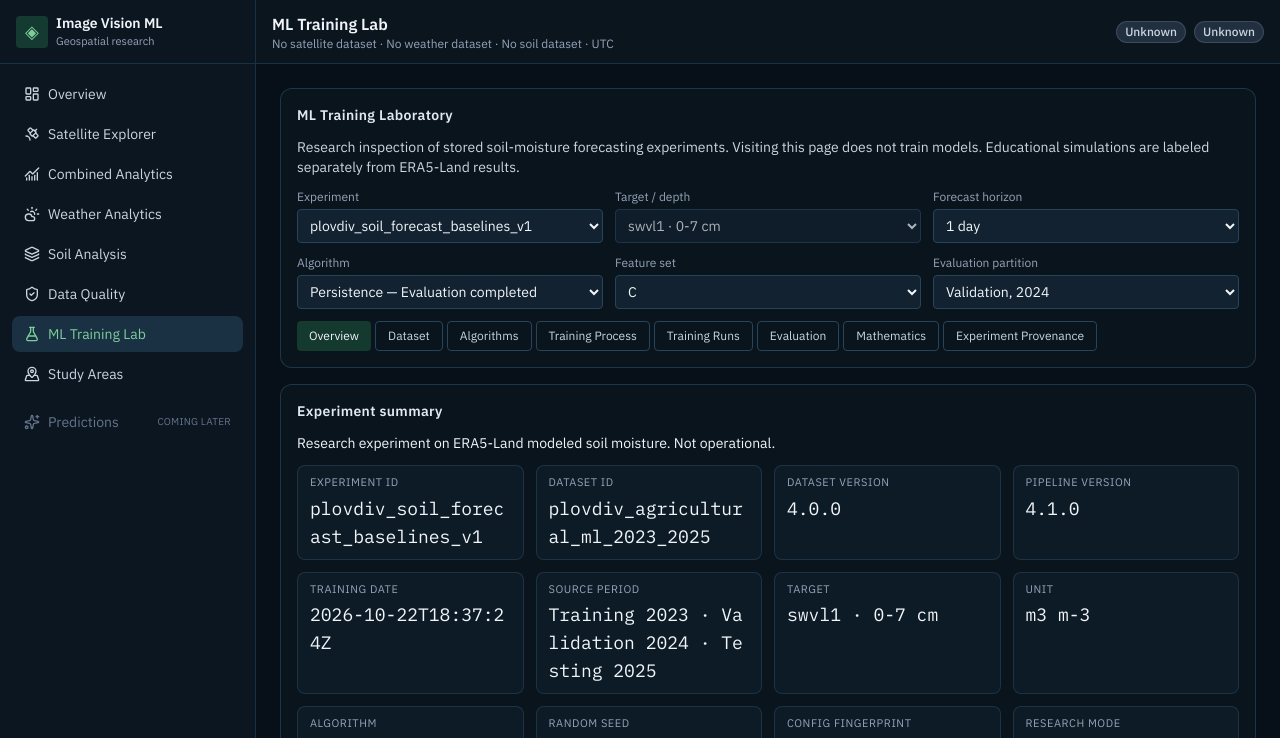
Test: ML Training Laboratory › keeps selectors while switching tabs and labels the held-out test
The width and height of the screenshot is (1280, 738).
Expected: the heading "Experiment summary" is shown, [297,401,443,421]
Select "7 day" in the dropdown labelled "Forecast horizon" at (1086, 226), box [933,209,1239,243]
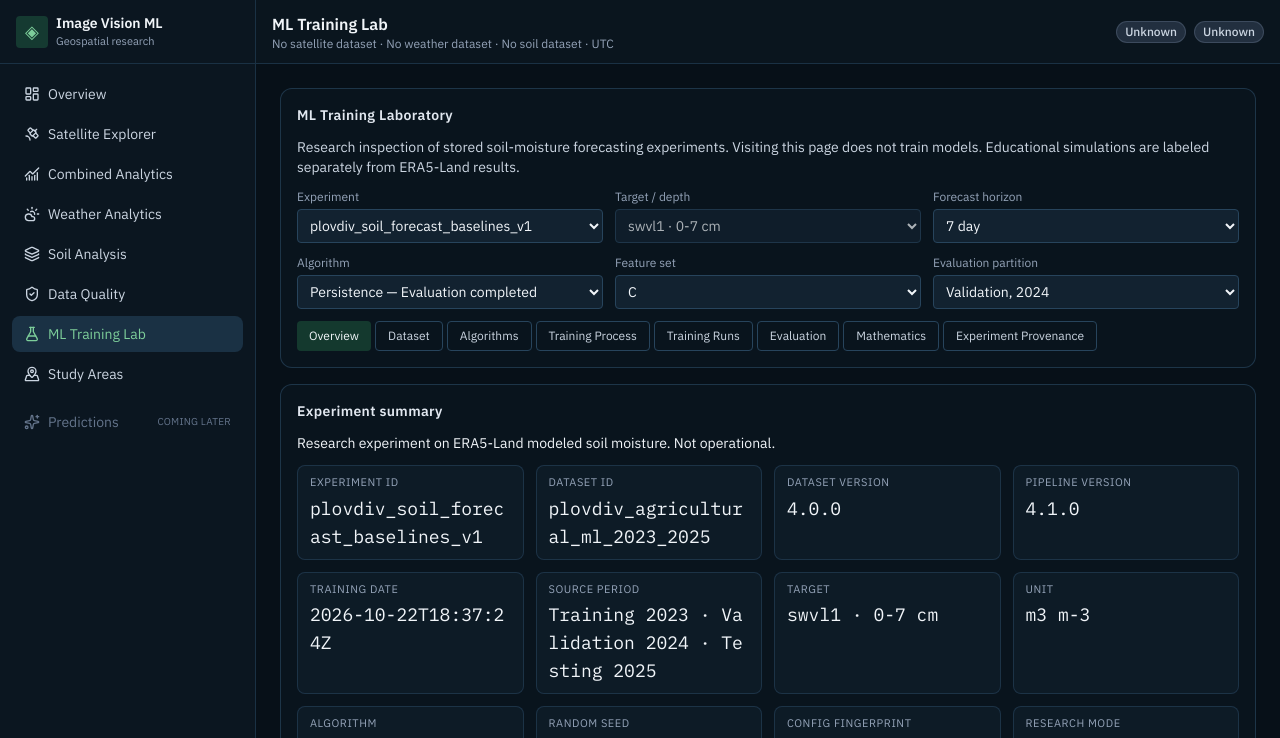
Click the tab "Evaluation" at (798, 336), box [757,321,839,351]
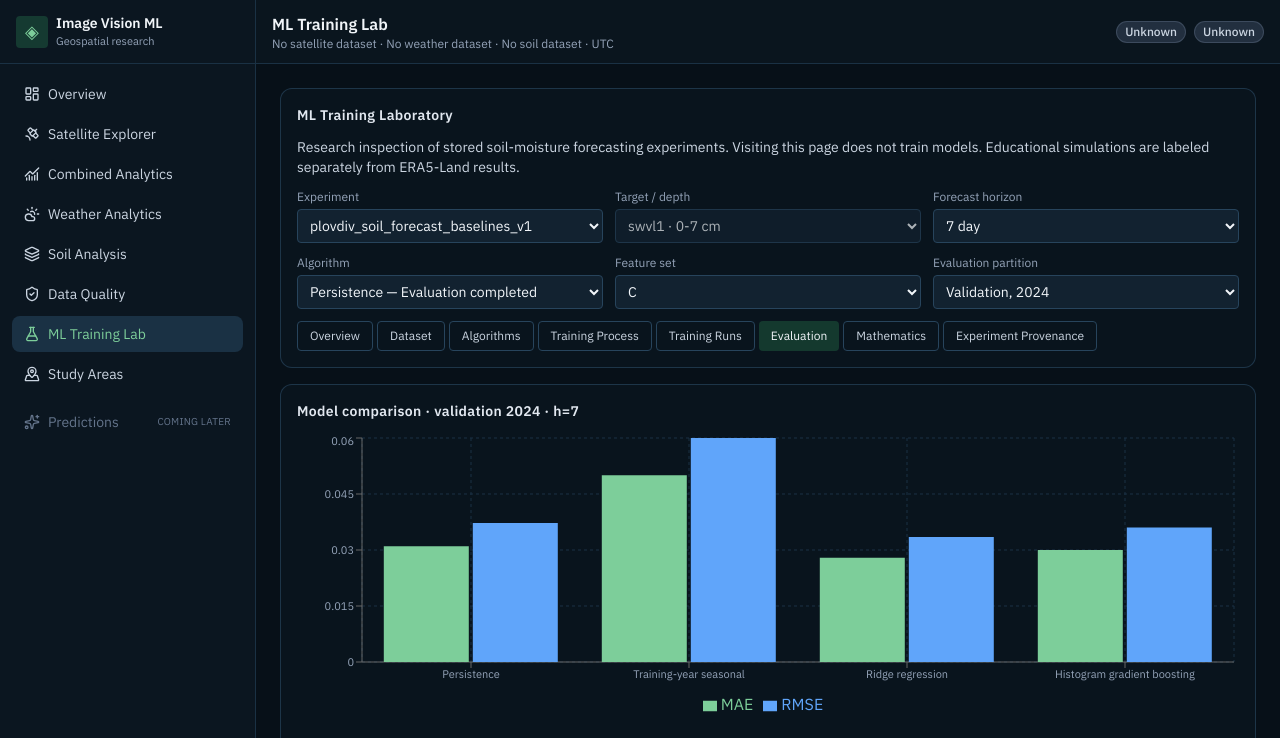
Expected: the element with test id "model-comparison-chart" is shown, [297,433,1239,721]
Expected: the heading "Model comparison · validation 2024 · h=7" is shown, [297,401,579,421]
Select "Final test, 2025" in the dropdown labelled "Evaluation partition" at (1086, 292), box [933,275,1239,309]
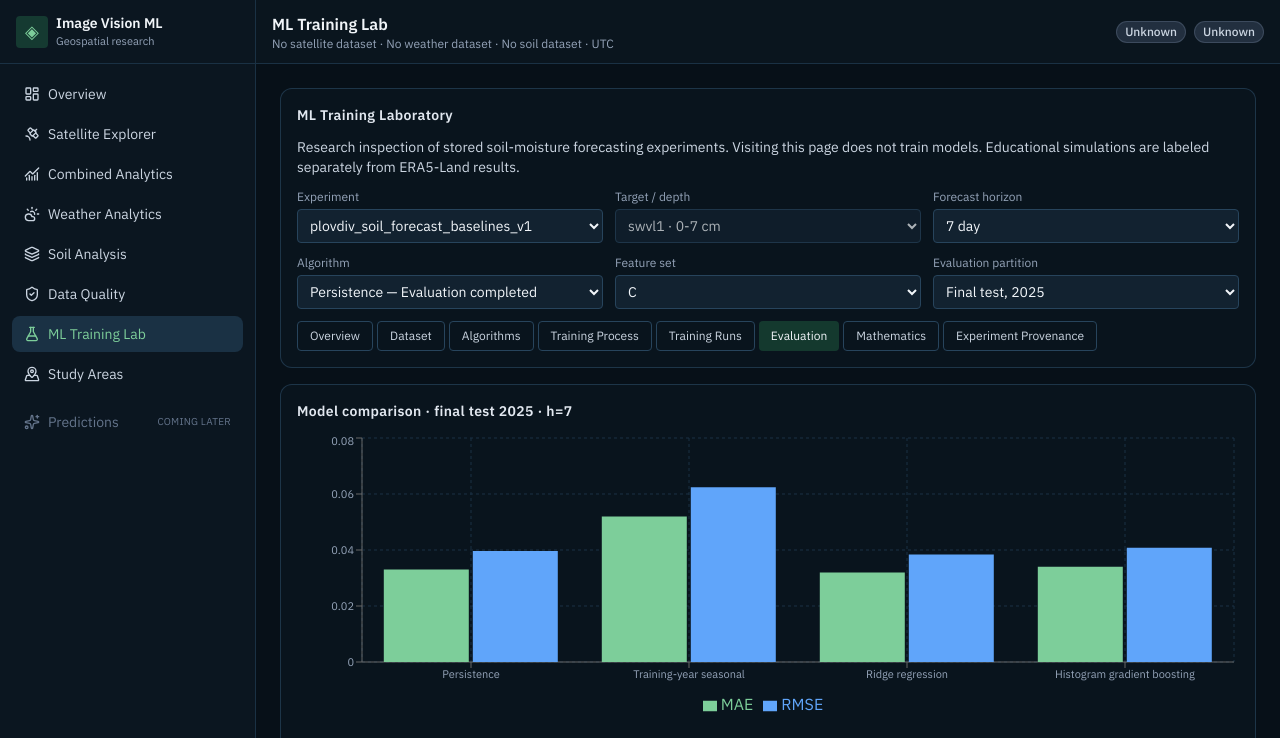
Expected: the heading "Model comparison · final test 2025 · h=7" is shown, [297,401,572,421]
